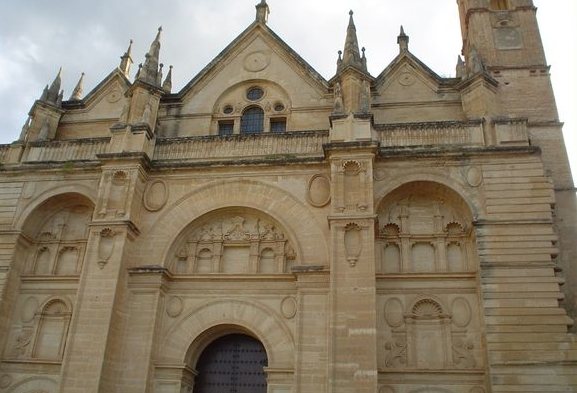arco-medio-punto: (158, 201, 309, 287), (373, 176, 482, 235), (176, 318, 276, 381), (9, 185, 96, 242)
ojo-de-buey: (244, 82, 266, 102)
serliana: (214, 101, 288, 136)
